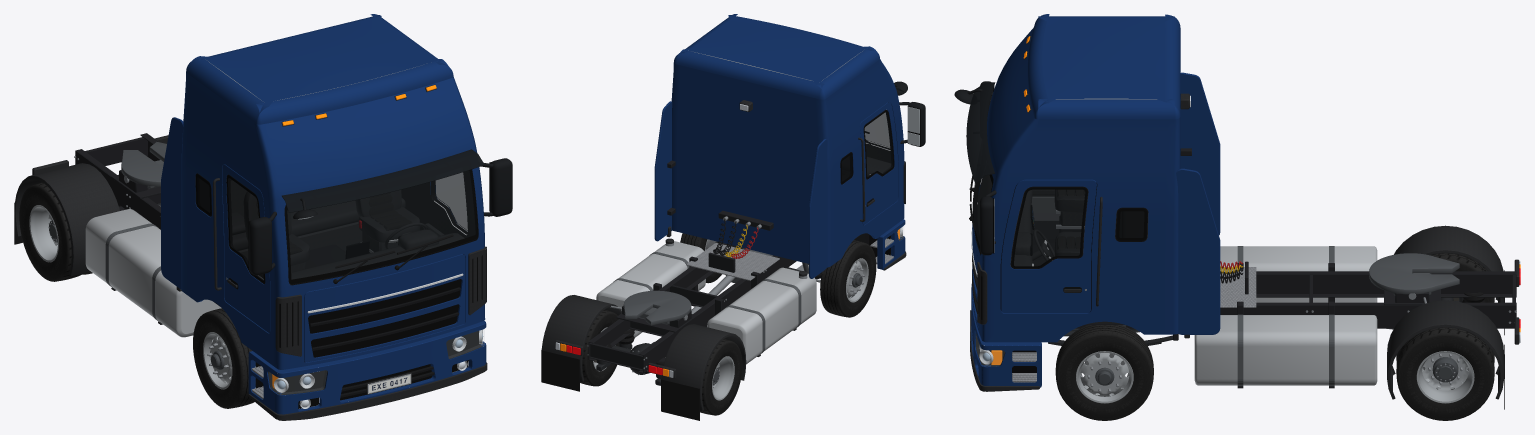
File: tractor-unit.glb
The picture shows the model from 3 angles, left to right: view 1: azimuth 30°, elevation 25°; view 2: azimuth 150°, elevation 25°; view 3: azimuth 270°, elevation 25°; orthographic projection. The views are drawn at different scales.
Parts seen in each view (by area): view 1: Body, Wheel_1_Right, Wheel_2_Right; view 2: Body, Wheel_1_Right, Wheel_2_Right, Wheel_2_Left, Wheel_1_Left; view 3: Body, Wheel_1_Left, Wheel_2_Left, Wheel_2_Right.
Boxes of the visible parts, x1,y1,x2,y2 form: Body: [14, 14, 512, 420]; Wheel_1_Right: [193, 308, 255, 408]; Wheel_2_Right: [19, 182, 92, 281]; Body: [541, 14, 925, 420]; Wheel_1_Right: [820, 240, 876, 317]; Wheel_2_Right: [700, 339, 742, 415]; Wheel_2_Left: [580, 309, 619, 386]; Wheel_1_Left: [680, 233, 721, 283]; Body: [954, 14, 1520, 409]; Wheel_1_Left: [1055, 325, 1153, 420]; Wheel_2_Left: [1396, 327, 1494, 420]; Wheel_2_Right: [1431, 253, 1494, 302].
Size of the model in its own units: 3.12 by 3.69 by 5.98.
63 materials, 14 textured.
